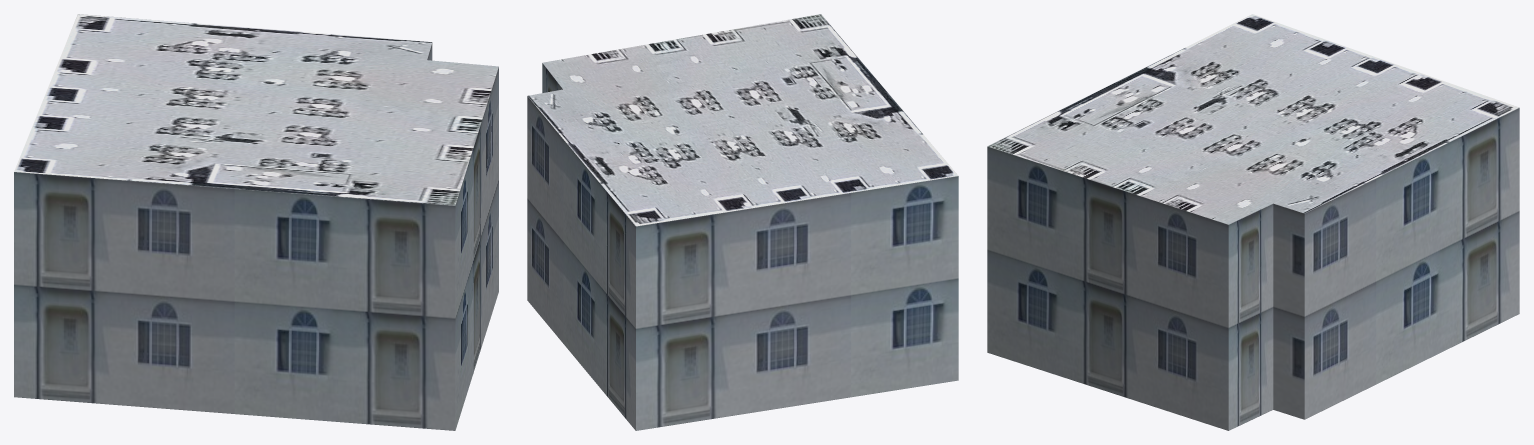
File: ResTex__665.fbx
3 renders of one model, left to right at view 1: azimuth 30°, elevation 25°; view 2: azimuth 150°, elevation 25°; view 3: azimuth 270°, elevation 25°, orthographic. The views are drawn at different scales.
Parts seen in each view (by area): view 1: CityEngineMaterial_17_m, CityEngineMaterial_2_m; view 2: CityEngineMaterial_17_m, CityEngineMaterial_2_m; view 3: CityEngineMaterial_17_m, CityEngineMaterial_2_m.
Boxes of the visible parts, box(x1,y1,x2,y2) form: CityEngineMaterial_17_m: box(14, 43, 498, 430); CityEngineMaterial_2_m: box(14, 14, 498, 205); CityEngineMaterial_17_m: box(527, 63, 958, 430); CityEngineMaterial_2_m: box(528, 14, 958, 226); CityEngineMaterial_17_m: box(987, 108, 1519, 430); CityEngineMaterial_2_m: box(987, 14, 1519, 224).
Size of the model in its own units: 13.15 by 6 by 14.04.
2 materials, 2 textured.
